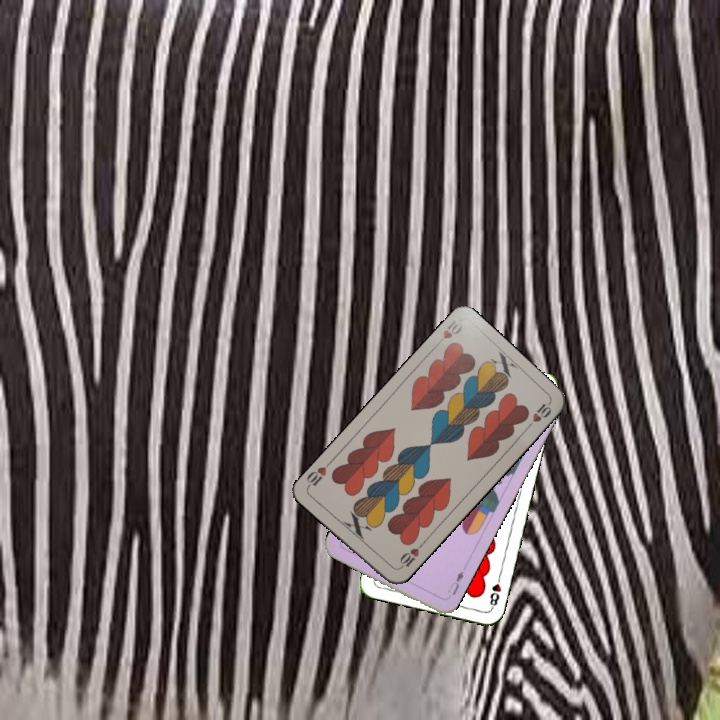EU: (443, 567, 467, 597)
H10: (431, 316, 465, 350), (394, 539, 426, 572)
H8: (485, 571, 504, 611)
